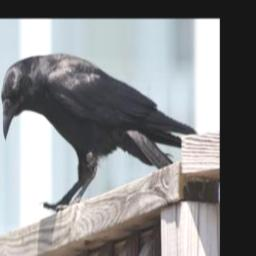Crow: (1, 51, 200, 211)
